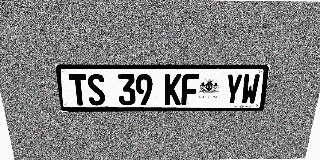3: (118, 74, 136, 105)
9: (135, 74, 153, 105)
F: (181, 74, 199, 105)
K: (164, 74, 182, 105)
S: (86, 74, 106, 105)
T: (68, 74, 89, 106)
W: (240, 74, 260, 105)
Y: (224, 74, 243, 105)
